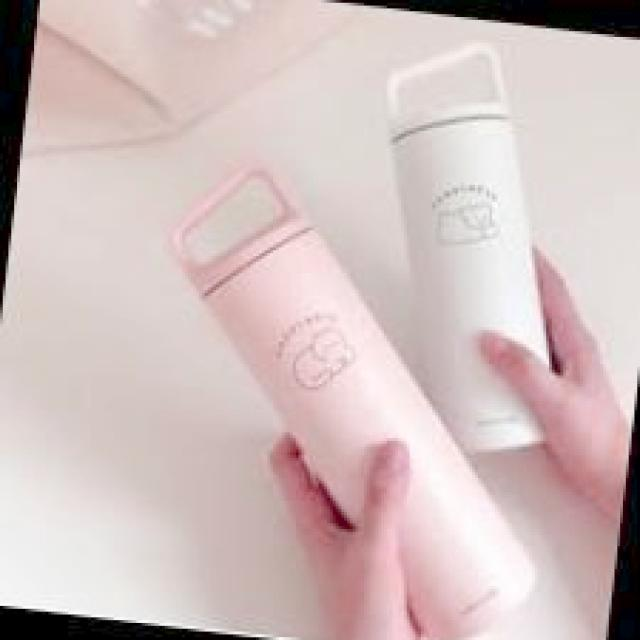bottle: (94, 142, 583, 640), (340, 23, 621, 469)
